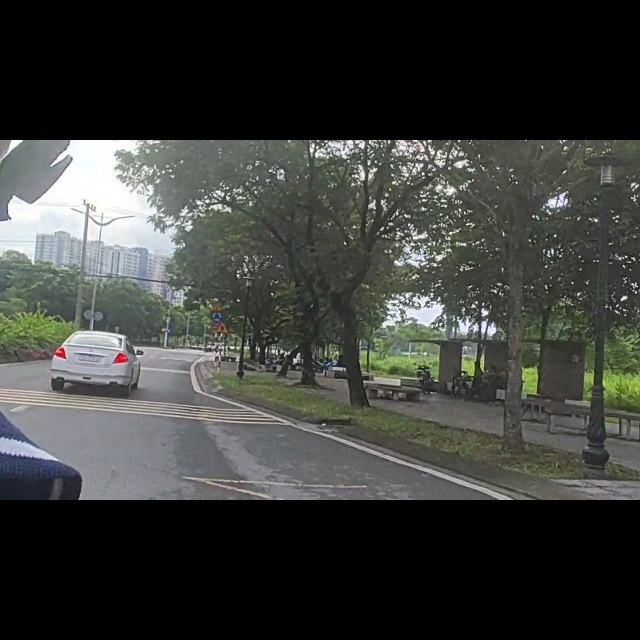bien_hieu_lenh: (217, 322, 229, 345), (213, 306, 223, 322), (166, 332, 172, 345), (161, 332, 166, 343)
